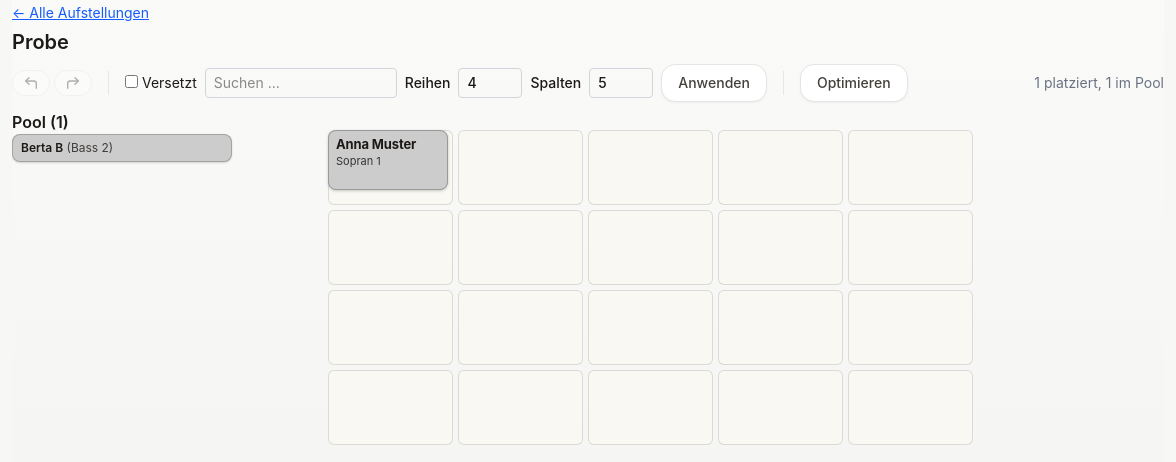
Test case: FormationEditorPage search › filters the pool by search without moving tiles
This screenshot has width=1176, height=462.
Expected: the text "Berta B" is shown, left=21, top=140, right=63, bottom=155
Type "berta" into the search field with placeholder "Suchen …" at (301, 83), box left=205, top=68, right=397, bottom=98
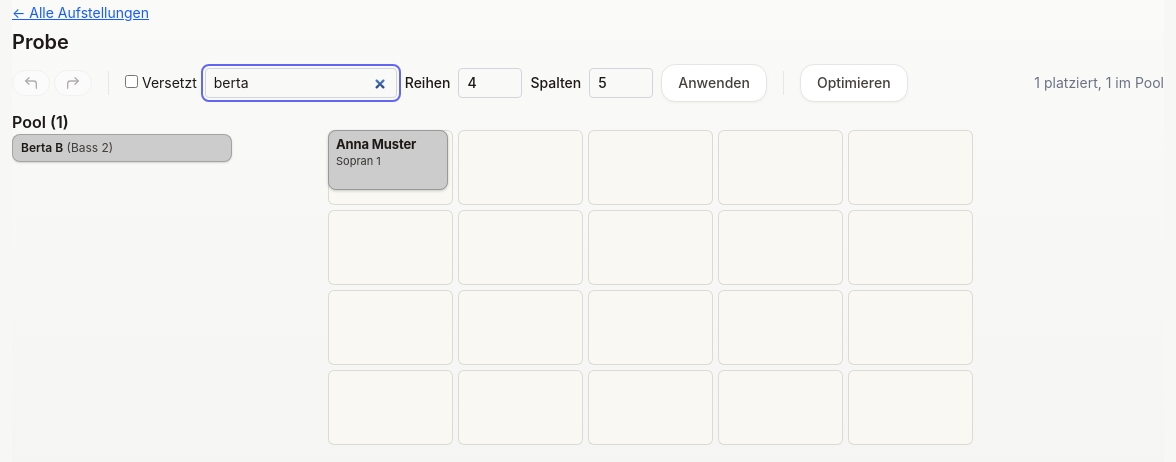
Expected: the text "Berta B" is shown, left=21, top=140, right=63, bottom=155
Replace the text in the search field with placeholder "Suchen …" with "xyz" at (301, 83), box left=205, top=68, right=397, bottom=98
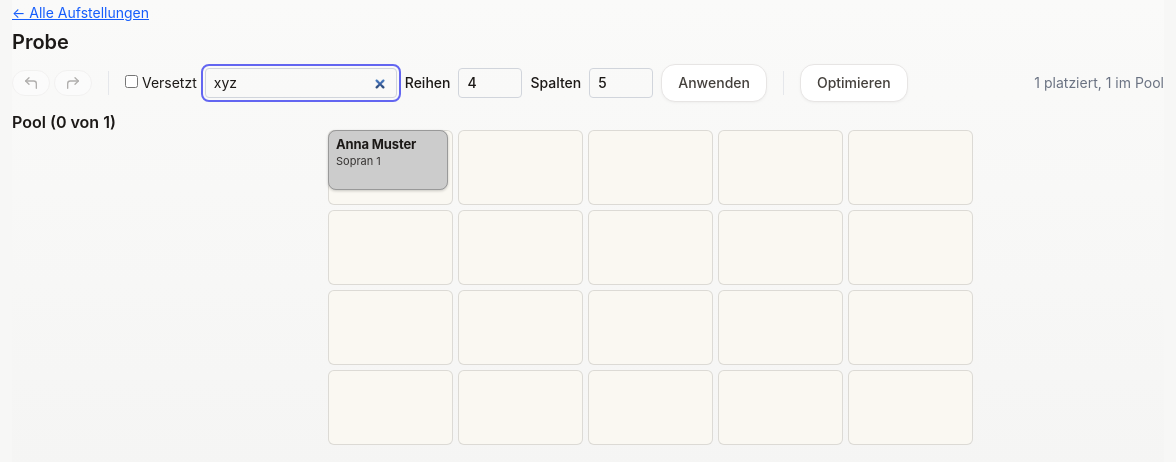
Expected: the heading "Pool (0 von 1)" is shown, left=12, top=112, right=116, bottom=132
